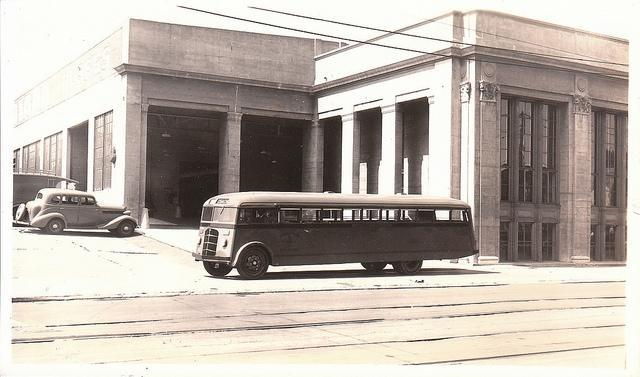bus: (192, 192, 479, 280)
car: (14, 187, 139, 236)
truck: (11, 169, 78, 215)
